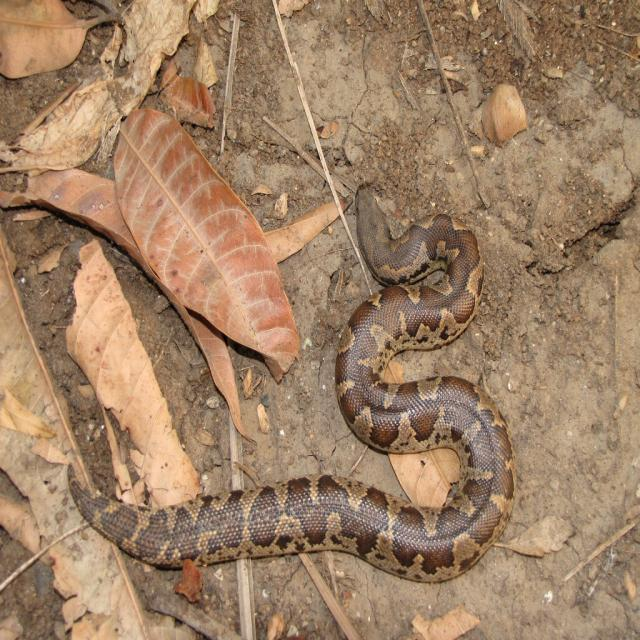Snake: (66, 184, 517, 584)
